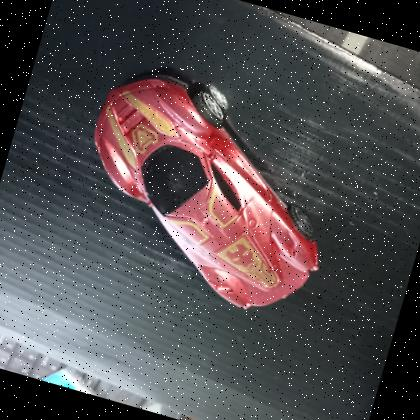Car: (54, 54, 363, 330)
